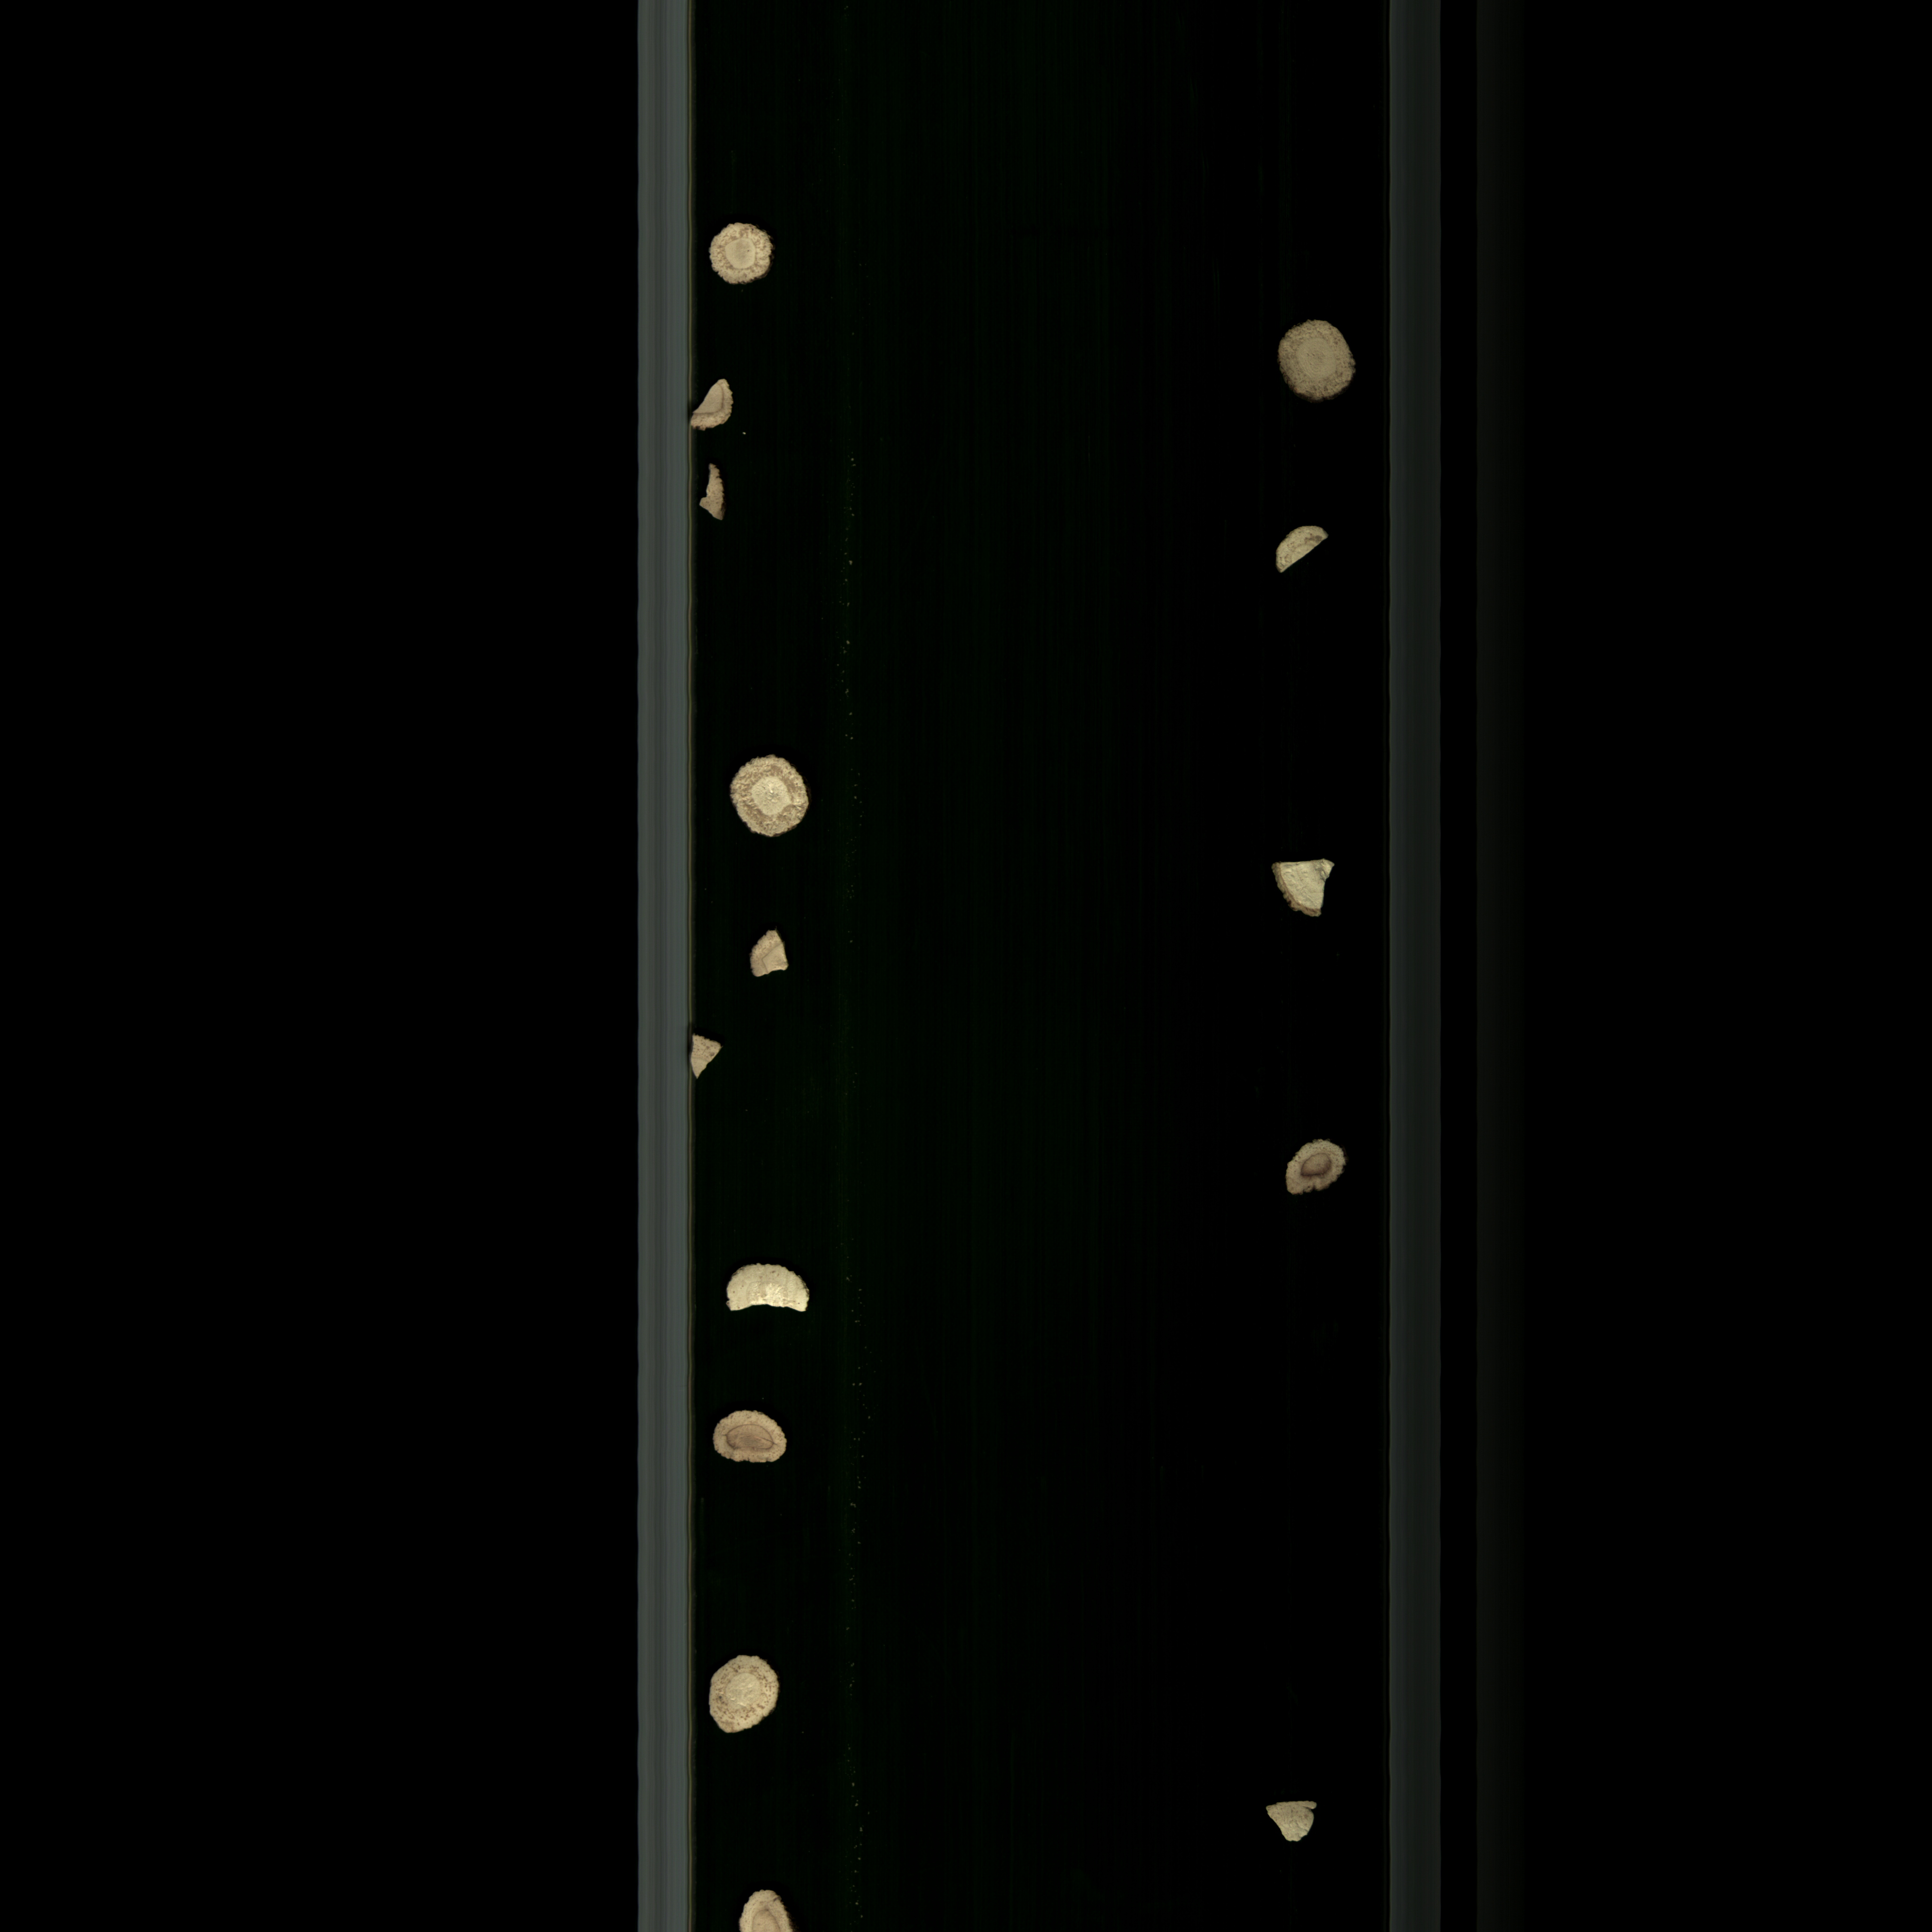debris: (717, 1256, 819, 1329), (1260, 851, 1346, 924), (685, 373, 745, 435), (1274, 522, 1329, 584)
distortion: (1251, 1794, 1332, 1854), (695, 458, 734, 536), (676, 1031, 736, 1081)
dreg: (743, 920, 807, 989)
moldy: (1270, 313, 1366, 409), (722, 750, 819, 844), (699, 216, 784, 308), (706, 1407, 796, 1472), (1274, 1136, 1359, 1203)
